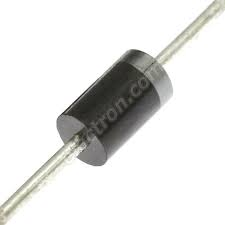diode: (17, 18, 209, 203)
